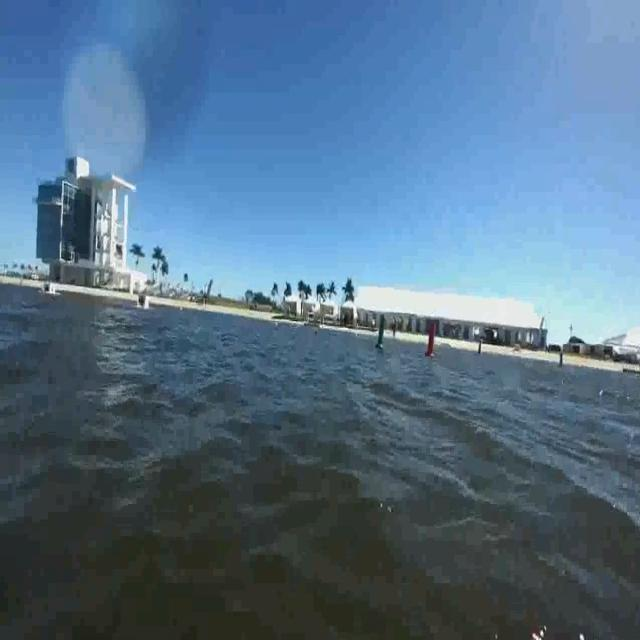green-column-buoy: (376, 312, 388, 350)
red-column-buoy: (423, 321, 439, 360)
